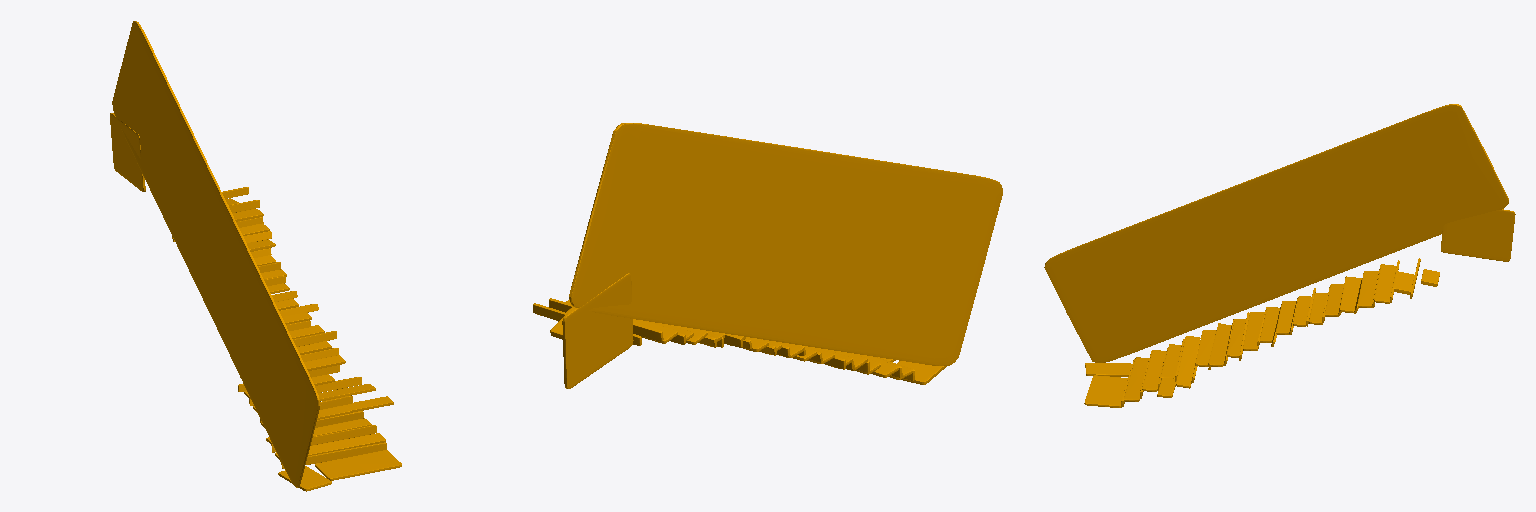
robot.urdf — scene:
<?xml version="1.0" encoding="utf-8"?>
<robot name="scene">
  <link name="scene_link">
    <visual>
      <origin xyz="0 0 0" rpy="0.000000 -0.000000 0.000000"/>
      <geometry><mesh filename="part_000.obj"/></geometry>
    </visual>
    <collision>
      <origin xyz="0 0 0" rpy="0.000000 -0.000000 0.000000"/>
      <geometry><mesh filename="part_000.obj"/></geometry>
    </collision>
    <visual>
      <origin xyz="0 0 0" rpy="0.000000 -0.000000 0.000000"/>
      <geometry><mesh filename="part_001.obj"/></geometry>
    </visual>
    <collision>
      <origin xyz="0 0 0" rpy="0.000000 -0.000000 0.000000"/>
      <geometry><mesh filename="part_001.obj"/></geometry>
    </collision>
    <visual>
      <origin xyz="0 0 0" rpy="0.000000 -0.000000 0.000000"/>
      <geometry><mesh filename="part_002.obj"/></geometry>
    </visual>
    <collision>
      <origin xyz="0 0 0" rpy="0.000000 -0.000000 0.000000"/>
      <geometry><mesh filename="part_002.obj"/></geometry>
    </collision>
    <visual>
      <origin xyz="0 0 0" rpy="0.000000 -0.000000 0.000000"/>
      <geometry><mesh filename="part_003.obj"/></geometry>
    </visual>
    <collision>
      <origin xyz="0 0 0" rpy="0.000000 -0.000000 0.000000"/>
      <geometry><mesh filename="part_003.obj"/></geometry>
    </collision>
    <visual>
      <origin xyz="0 0 0" rpy="0.000000 -0.000000 0.000000"/>
      <geometry><mesh filename="part_004.obj"/></geometry>
    </visual>
    <collision>
      <origin xyz="0 0 0" rpy="0.000000 -0.000000 0.000000"/>
      <geometry><mesh filename="part_004.obj"/></geometry>
    </collision>
    <visual>
      <origin xyz="0 0 0" rpy="0.000000 -0.000000 0.000000"/>
      <geometry><mesh filename="part_005.obj"/></geometry>
    </visual>
    <collision>
      <origin xyz="0 0 0" rpy="0.000000 -0.000000 0.000000"/>
      <geometry><mesh filename="part_005.obj"/></geometry>
    </collision>
    <visual>
      <origin xyz="0 0 0" rpy="0.000000 -0.000000 0.000000"/>
      <geometry><mesh filename="part_006.obj"/></geometry>
    </visual>
    <collision>
      <origin xyz="0 0 0" rpy="0.000000 -0.000000 0.000000"/>
      <geometry><mesh filename="part_006.obj"/></geometry>
    </collision>
    <visual>
      <origin xyz="0 0 0" rpy="0.000000 -0.000000 0.000000"/>
      <geometry><mesh filename="part_007.obj"/></geometry>
    </visual>
    <collision>
      <origin xyz="0 0 0" rpy="0.000000 -0.000000 0.000000"/>
      <geometry><mesh filename="part_007.obj"/></geometry>
    </collision>
    <visual>
      <origin xyz="0 0 0" rpy="0.000000 -0.000000 0.000000"/>
      <geometry><mesh filename="part_008.obj"/></geometry>
    </visual>
    <collision>
      <origin xyz="0 0 0" rpy="0.000000 -0.000000 0.000000"/>
      <geometry><mesh filename="part_008.obj"/></geometry>
    </collision>
    <visual>
      <origin xyz="0 0 0" rpy="0.000000 -0.000000 0.000000"/>
      <geometry><mesh filename="part_009.obj"/></geometry>
    </visual>
    <collision>
      <origin xyz="0 0 0" rpy="0.000000 -0.000000 0.000000"/>
      <geometry><mesh filename="part_009.obj"/></geometry>
    </collision>
    <visual>
      <origin xyz="0 0 0" rpy="0.000000 -0.000000 0.000000"/>
      <geometry><mesh filename="part_010.obj"/></geometry>
    </visual>
    <collision>
      <origin xyz="0 0 0" rpy="0.000000 -0.000000 0.000000"/>
      <geometry><mesh filename="part_010.obj"/></geometry>
    </collision>
    <visual>
      <origin xyz="0 0 0" rpy="0.000000 -0.000000 0.000000"/>
      <geometry><mesh filename="part_011.obj"/></geometry>
    </visual>
    <collision>
      <origin xyz="0 0 0" rpy="0.000000 -0.000000 0.000000"/>
      <geometry><mesh filename="part_011.obj"/></geometry>
    </collision>
    <visual>
      <origin xyz="0 0 0" rpy="0.000000 -0.000000 0.000000"/>
      <geometry><mesh filename="part_012.obj"/></geometry>
    </visual>
    <collision>
      <origin xyz="0 0 0" rpy="0.000000 -0.000000 0.000000"/>
      <geometry><mesh filename="part_012.obj"/></geometry>
    </collision>
    <visual>
      <origin xyz="0 0 0" rpy="0.000000 -0.000000 0.000000"/>
      <geometry><mesh filename="part_013.obj"/></geometry>
    </visual>
    <collision>
      <origin xyz="0 0 0" rpy="0.000000 -0.000000 0.000000"/>
      <geometry><mesh filename="part_013.obj"/></geometry>
    </collision>
    <visual>
      <origin xyz="0 0 0" rpy="0.000000 -0.000000 0.000000"/>
      <geometry><mesh filename="part_014.obj"/></geometry>
    </visual>
    <collision>
      <origin xyz="0 0 0" rpy="0.000000 -0.000000 0.000000"/>
      <geometry><mesh filename="part_014.obj"/></geometry>
    </collision>
    <visual>
      <origin xyz="0 0 0" rpy="0.000000 -0.000000 0.000000"/>
      <geometry><mesh filename="part_015.obj"/></geometry>
    </visual>
    <collision>
      <origin xyz="0 0 0" rpy="0.000000 -0.000000 0.000000"/>
      <geometry><mesh filename="part_015.obj"/></geometry>
    </collision>
    <visual>
      <origin xyz="0 0 0" rpy="0.000000 -0.000000 0.000000"/>
      <geometry><mesh filename="part_016.obj"/></geometry>
    </visual>
    <collision>
      <origin xyz="0 0 0" rpy="0.000000 -0.000000 0.000000"/>
      <geometry><mesh filename="part_016.obj"/></geometry>
    </collision>
    <visual>
      <origin xyz="0 0 0" rpy="0.000000 -0.000000 0.000000"/>
      <geometry><mesh filename="part_017.obj"/></geometry>
    </visual>
    <collision>
      <origin xyz="0 0 0" rpy="0.000000 -0.000000 0.000000"/>
      <geometry><mesh filename="part_017.obj"/></geometry>
    </collision>
    <visual>
      <origin xyz="0 0 0" rpy="0.000000 -0.000000 0.000000"/>
      <geometry><mesh filename="part_018.obj"/></geometry>
    </visual>
    <collision>
      <origin xyz="0 0 0" rpy="0.000000 -0.000000 0.000000"/>
      <geometry><mesh filename="part_018.obj"/></geometry>
    </collision>
    <visual>
      <origin xyz="0 0 0" rpy="0.000000 -0.000000 0.000000"/>
      <geometry><mesh filename="part_019.obj"/></geometry>
    </visual>
    <collision>
      <origin xyz="0 0 0" rpy="0.000000 -0.000000 0.000000"/>
      <geometry><mesh filename="part_019.obj"/></geometry>
    </collision>
    <visual>
      <origin xyz="0 0 0" rpy="0.000000 -0.000000 0.000000"/>
      <geometry><mesh filename="part_020.obj"/></geometry>
    </visual>
    <collision>
      <origin xyz="0 0 0" rpy="0.000000 -0.000000 0.000000"/>
      <geometry><mesh filename="part_020.obj"/></geometry>
    </collision>
    <visual>
      <origin xyz="0 0 0" rpy="0.000000 -0.000000 0.000000"/>
      <geometry><mesh filename="part_021.obj"/></geometry>
    </visual>
    <collision>
      <origin xyz="0 0 0" rpy="0.000000 -0.000000 0.000000"/>
      <geometry><mesh filename="part_021.obj"/></geometry>
    </collision>
    <visual>
      <origin xyz="0 0 0" rpy="0.000000 -0.000000 0.000000"/>
      <geometry><mesh filename="part_022.obj"/></geometry>
    </visual>
    <collision>
      <origin xyz="0 0 0" rpy="0.000000 -0.000000 0.000000"/>
      <geometry><mesh filename="part_022.obj"/></geometry>
    </collision>
    <visual>
      <origin xyz="0 0 0" rpy="0.000000 -0.000000 0.000000"/>
      <geometry><mesh filename="part_023.obj"/></geometry>
    </visual>
    <collision>
      <origin xyz="0 0 0" rpy="0.000000 -0.000000 0.000000"/>
      <geometry><mesh filename="part_023.obj"/></geometry>
    </collision>
    <visual>
      <origin xyz="0 0 0" rpy="0.000000 -0.000000 0.000000"/>
      <geometry><mesh filename="part_024.obj"/></geometry>
    </visual>
    <collision>
      <origin xyz="0 0 0" rpy="0.000000 -0.000000 0.000000"/>
      <geometry><mesh filename="part_024.obj"/></geometry>
    </collision>
    <visual>
      <origin xyz="0 0 0" rpy="0.000000 -0.000000 0.000000"/>
      <geometry><mesh filename="part_025.obj"/></geometry>
    </visual>
    <collision>
      <origin xyz="0 0 0" rpy="0.000000 -0.000000 0.000000"/>
      <geometry><mesh filename="part_025.obj"/></geometry>
    </collision>
    <visual>
      <origin xyz="0 0 0" rpy="0.000000 -0.000000 0.000000"/>
      <geometry><mesh filename="part_026.obj"/></geometry>
    </visual>
    <collision>
      <origin xyz="0 0 0" rpy="0.000000 -0.000000 0.000000"/>
      <geometry><mesh filename="part_026.obj"/></geometry>
    </collision>
    <visual>
      <origin xyz="0 0 0" rpy="0.000000 -0.000000 0.000000"/>
      <geometry><mesh filename="part_027.obj"/></geometry>
    </visual>
    <collision>
      <origin xyz="0 0 0" rpy="0.000000 -0.000000 0.000000"/>
      <geometry><mesh filename="part_027.obj"/></geometry>
    </collision>
    <visual>
      <origin xyz="0 0 0" rpy="0.000000 -0.000000 0.000000"/>
      <geometry><mesh filename="part_028.obj"/></geometry>
    </visual>
    <collision>
      <origin xyz="0 0 0" rpy="0.000000 -0.000000 0.000000"/>
      <geometry><mesh filename="part_028.obj"/></geometry>
    </collision>
    <visual>
      <origin xyz="0 0 0" rpy="0.000000 -0.000000 0.000000"/>
      <geometry><mesh filename="part_029.obj"/></geometry>
    </visual>
    <collision>
      <origin xyz="0 0 0" rpy="0.000000 -0.000000 0.000000"/>
      <geometry><mesh filename="part_029.obj"/></geometry>
    </collision>
    <visual>
      <origin xyz="0 0 0" rpy="0.000000 -0.000000 0.000000"/>
      <geometry><mesh filename="part_030.obj"/></geometry>
    </visual>
    <collision>
      <origin xyz="0 0 0" rpy="0.000000 -0.000000 0.000000"/>
      <geometry><mesh filename="part_030.obj"/></geometry>
    </collision>
    <visual>
      <origin xyz="0 0 0" rpy="0.000000 -0.000000 0.000000"/>
      <geometry><mesh filename="part_031.obj"/></geometry>
    </visual>
    <collision>
      <origin xyz="0 0 0" rpy="0.000000 -0.000000 0.000000"/>
      <geometry><mesh filename="part_031.obj"/></geometry>
    </collision>
    <visual>
      <origin xyz="0 0 0" rpy="0.000000 -0.000000 0.000000"/>
      <geometry><mesh filename="part_032.obj"/></geometry>
    </visual>
    <collision>
      <origin xyz="0 0 0" rpy="0.000000 -0.000000 0.000000"/>
      <geometry><mesh filename="part_032.obj"/></geometry>
    </collision>
    <visual>
      <origin xyz="0 0 0" rpy="0.000000 -0.000000 0.000000"/>
      <geometry><mesh filename="part_033.obj"/></geometry>
    </visual>
    <collision>
      <origin xyz="0 0 0" rpy="0.000000 -0.000000 0.000000"/>
      <geometry><mesh filename="part_033.obj"/></geometry>
    </collision>
    <visual>
      <origin xyz="0 0 0" rpy="0.000000 -0.000000 0.000000"/>
      <geometry><mesh filename="part_034.obj"/></geometry>
    </visual>
    <collision>
      <origin xyz="0 0 0" rpy="0.000000 -0.000000 0.000000"/>
      <geometry><mesh filename="part_034.obj"/></geometry>
    </collision>
    <visual>
      <origin xyz="0 0 0" rpy="0.000000 -0.000000 0.000000"/>
      <geometry><mesh filename="part_035.obj"/></geometry>
    </visual>
    <collision>
      <origin xyz="0 0 0" rpy="0.000000 -0.000000 0.000000"/>
      <geometry><mesh filename="part_035.obj"/></geometry>
    </collision>
    <visual>
      <origin xyz="0 0 0" rpy="0.000000 -0.000000 0.000000"/>
      <geometry><mesh filename="part_036.obj"/></geometry>
    </visual>
    <collision>
      <origin xyz="0 0 0" rpy="0.000000 -0.000000 0.000000"/>
      <geometry><mesh filename="part_036.obj"/></geometry>
    </collision>
    <visual>
      <origin xyz="0 0 0" rpy="0.000000 -0.000000 0.000000"/>
      <geometry><mesh filename="part_037.obj"/></geometry>
    </visual>
    <collision>
      <origin xyz="0 0 0" rpy="0.000000 -0.000000 0.000000"/>
      <geometry><mesh filename="part_037.obj"/></geometry>
    </collision>
    <visual>
      <origin xyz="0 0 0" rpy="0.000000 -0.000000 0.000000"/>
      <geometry><mesh filename="part_038.obj"/></geometry>
    </visual>
    <collision>
      <origin xyz="0 0 0" rpy="0.000000 -0.000000 0.000000"/>
      <geometry><mesh filename="part_038.obj"/></geometry>
    </collision>
    <visual>
      <origin xyz="0 0 0" rpy="0.000000 -0.000000 0.000000"/>
      <geometry><mesh filename="part_039.obj"/></geometry>
    </visual>
    <collision>
      <origin xyz="0 0 0" rpy="0.000000 -0.000000 0.000000"/>
      <geometry><mesh filename="part_039.obj"/></geometry>
    </collision>
    <visual>
      <origin xyz="0 0 0" rpy="0.000000 -0.000000 0.000000"/>
      <geometry><mesh filename="part_040.obj"/></geometry>
    </visual>
    <collision>
      <origin xyz="0 0 0" rpy="0.000000 -0.000000 0.000000"/>
      <geometry><mesh filename="part_040.obj"/></geometry>
    </collision>
  </link>
</robot>

--- Facts derived from the render (not from the file) ---
3 views of the same robot in one strip: view 1: azimuth 30°, elevation 25°; view 2: azimuth 150°, elevation 25°; view 3: azimuth 270°, elevation 25° (orthographic).
Model scene with 1 links and 0 joints (none), rooted at scene_link, posed all joints at 0.
Links seen in each view (by area): view 1: scene_link; view 2: scene_link; view 3: scene_link.
Boxes of the visible links, x1,y1,x2,y2 form: scene_link: (110, 21, 401, 491); scene_link: (533, 123, 1002, 388); scene_link: (1044, 104, 1515, 407).
Bounding box of the posed robot: 2.35 × 7.63 × 4.98 m (x, y, z).
Meshes: 41 distinct files referenced, 41 mesh visuals loaded (41 OBJ).
